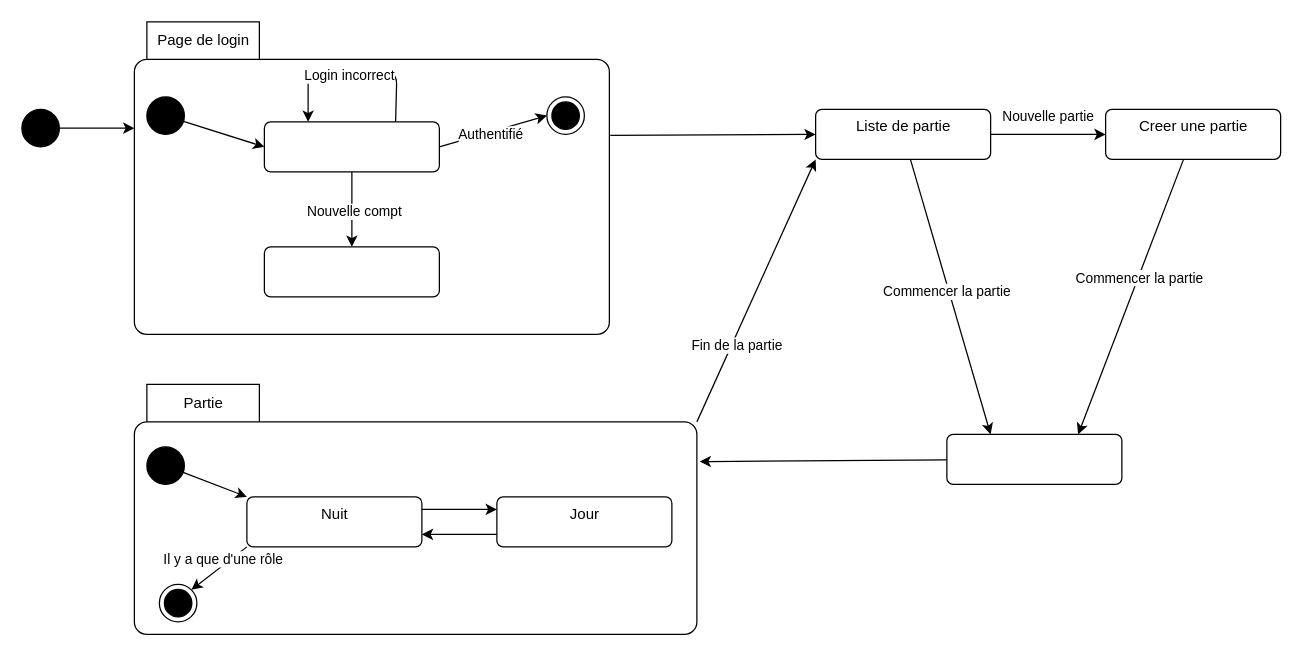
The diagram is 1303 pixels wide and 656 high, and some of its shapes have lost their labels. The shapes that lost their labels are listed below. From the top down, each one's centre as x and y in pixels, then its label:
At (x=351, y=146): "Login".
At (x=351, y=271): "Creer une compte".
At (x=1034, y=458): "Attente de l'heure de début de la partie".
